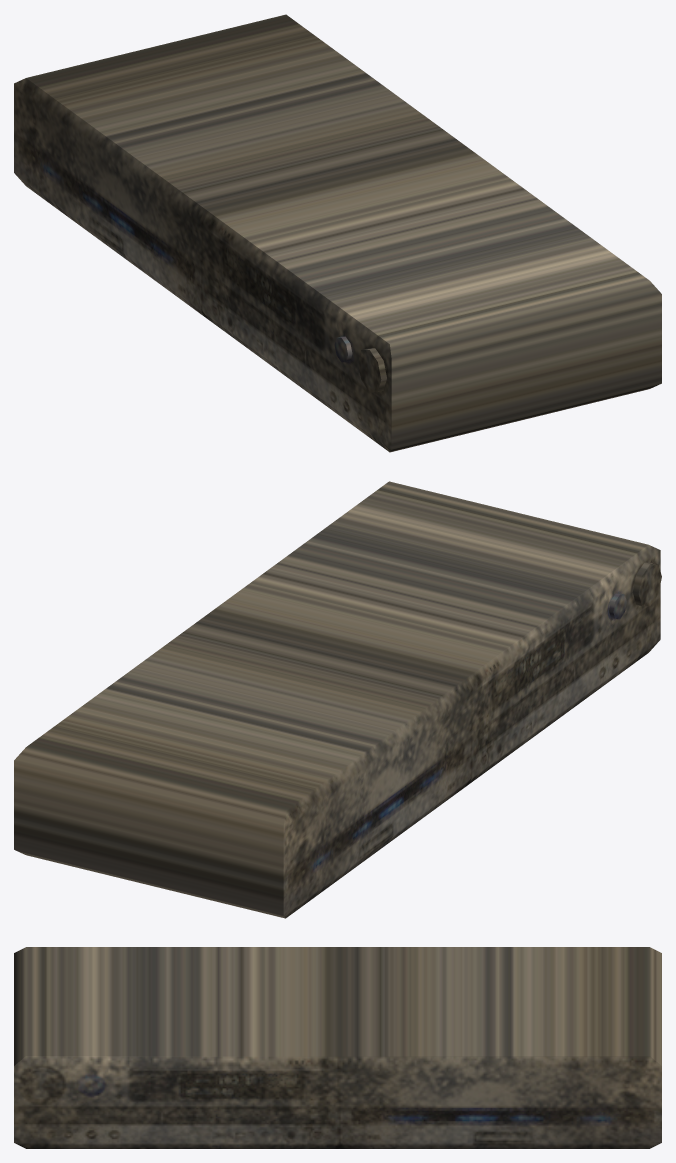
Rendered from dvd_player.FBX.
3 views of the same model, one above another, from view 1: azimuth 30°, elevation 25°; view 2: azimuth 150°, elevation 25°; view 3: azimuth 270°, elevation 25° (orthographic). The views are drawn at different scales.
Visible parts, largest first — view 1: dvd_player; view 2: dvd_player; view 3: dvd_player.
Boxes of the visible parts, x1,y1,x2,y2 form: dvd_player: [14, 14, 661, 452]; dvd_player: [14, 481, 661, 918]; dvd_player: [14, 947, 661, 1148].
Size of the model in its own units: 0.2048 by 0.0768 by 0.4854.
